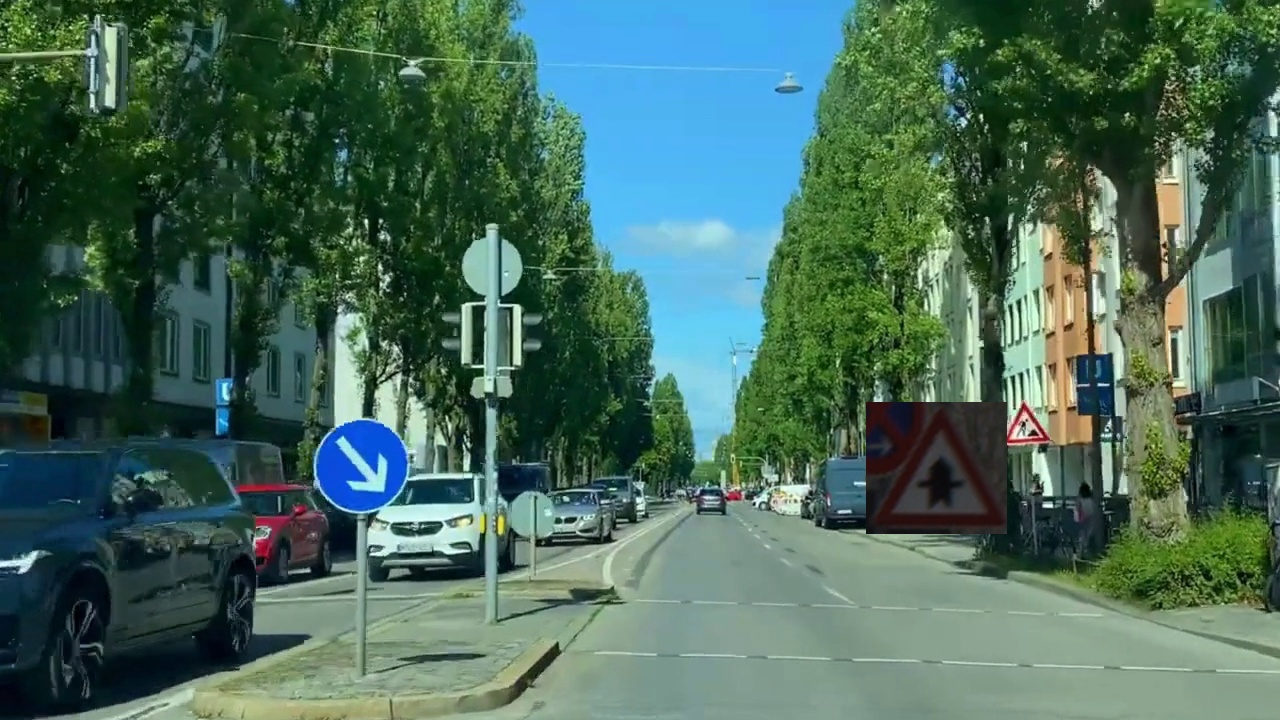Right-of-way: (866, 402, 1007, 534)
